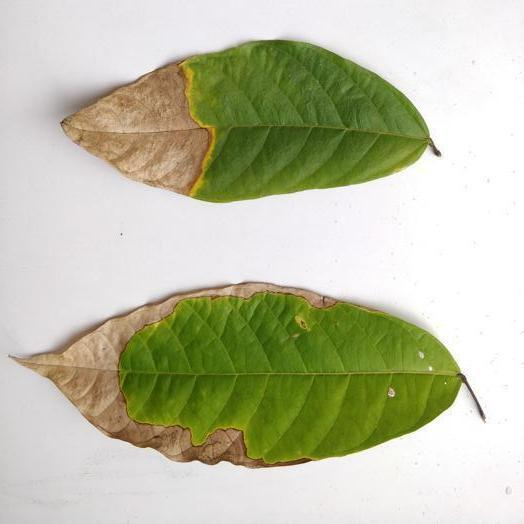Potassium: (16, 283, 470, 466), (63, 40, 439, 202)
